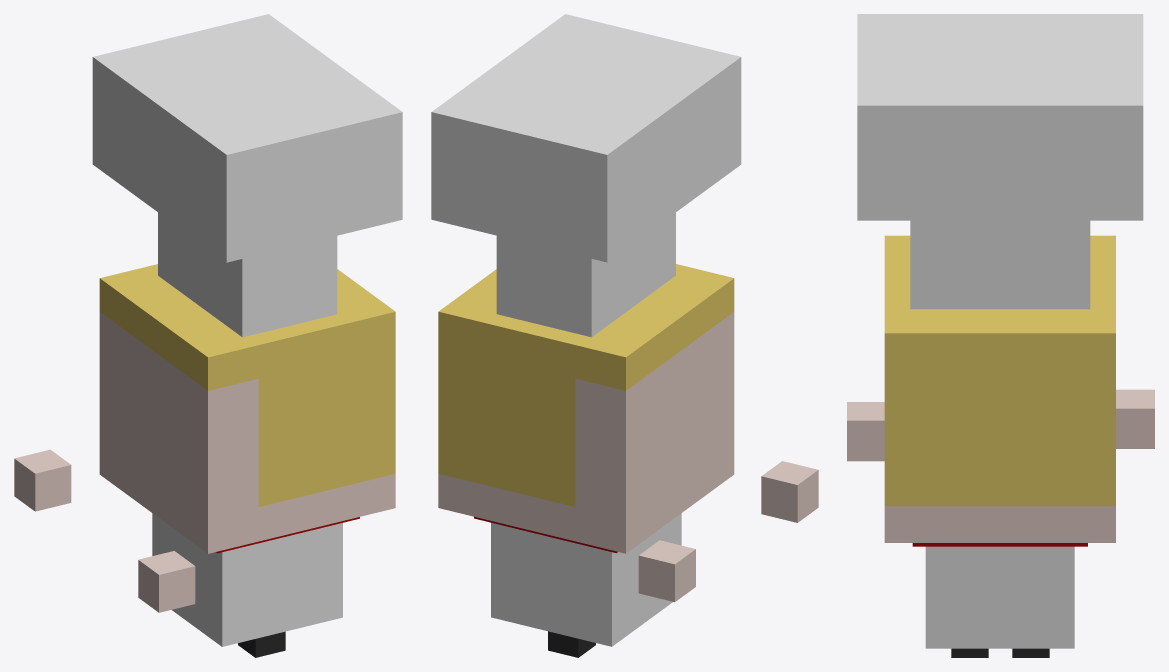
File: Chef.fbx
The picture shows the model from 3 angles, left to right: view 1: azimuth 30°, elevation 25°; view 2: azimuth 150°, elevation 25°; view 3: azimuth 270°, elevation 25°; orthographic projection. The views are drawn at different scales.
Parts seen in each view (by area): view 1: group_pasted__pCube1; view 2: group_pasted__pCube1; view 3: group_pasted__pCube1.
Boxes of the visible parts, x1,y1,x2,y2 form: group_pasted__pCube1: (14,14,402,657); group_pasted__pCube1: (431,14,818,657); group_pasted__pCube1: (847,14,1154,657).
Bounding box in the file's own units: 7.65 × 15.86 × 7.5.
